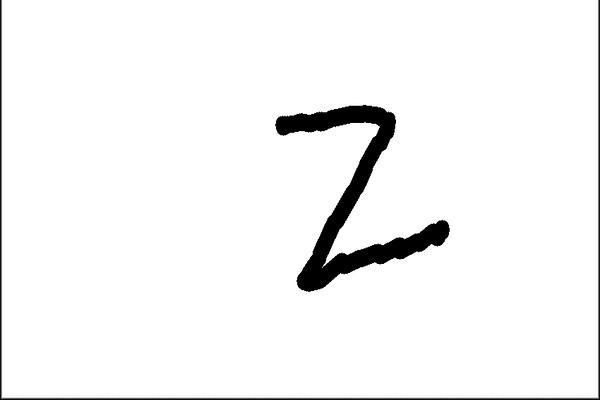Z: (252, 93, 452, 295)
